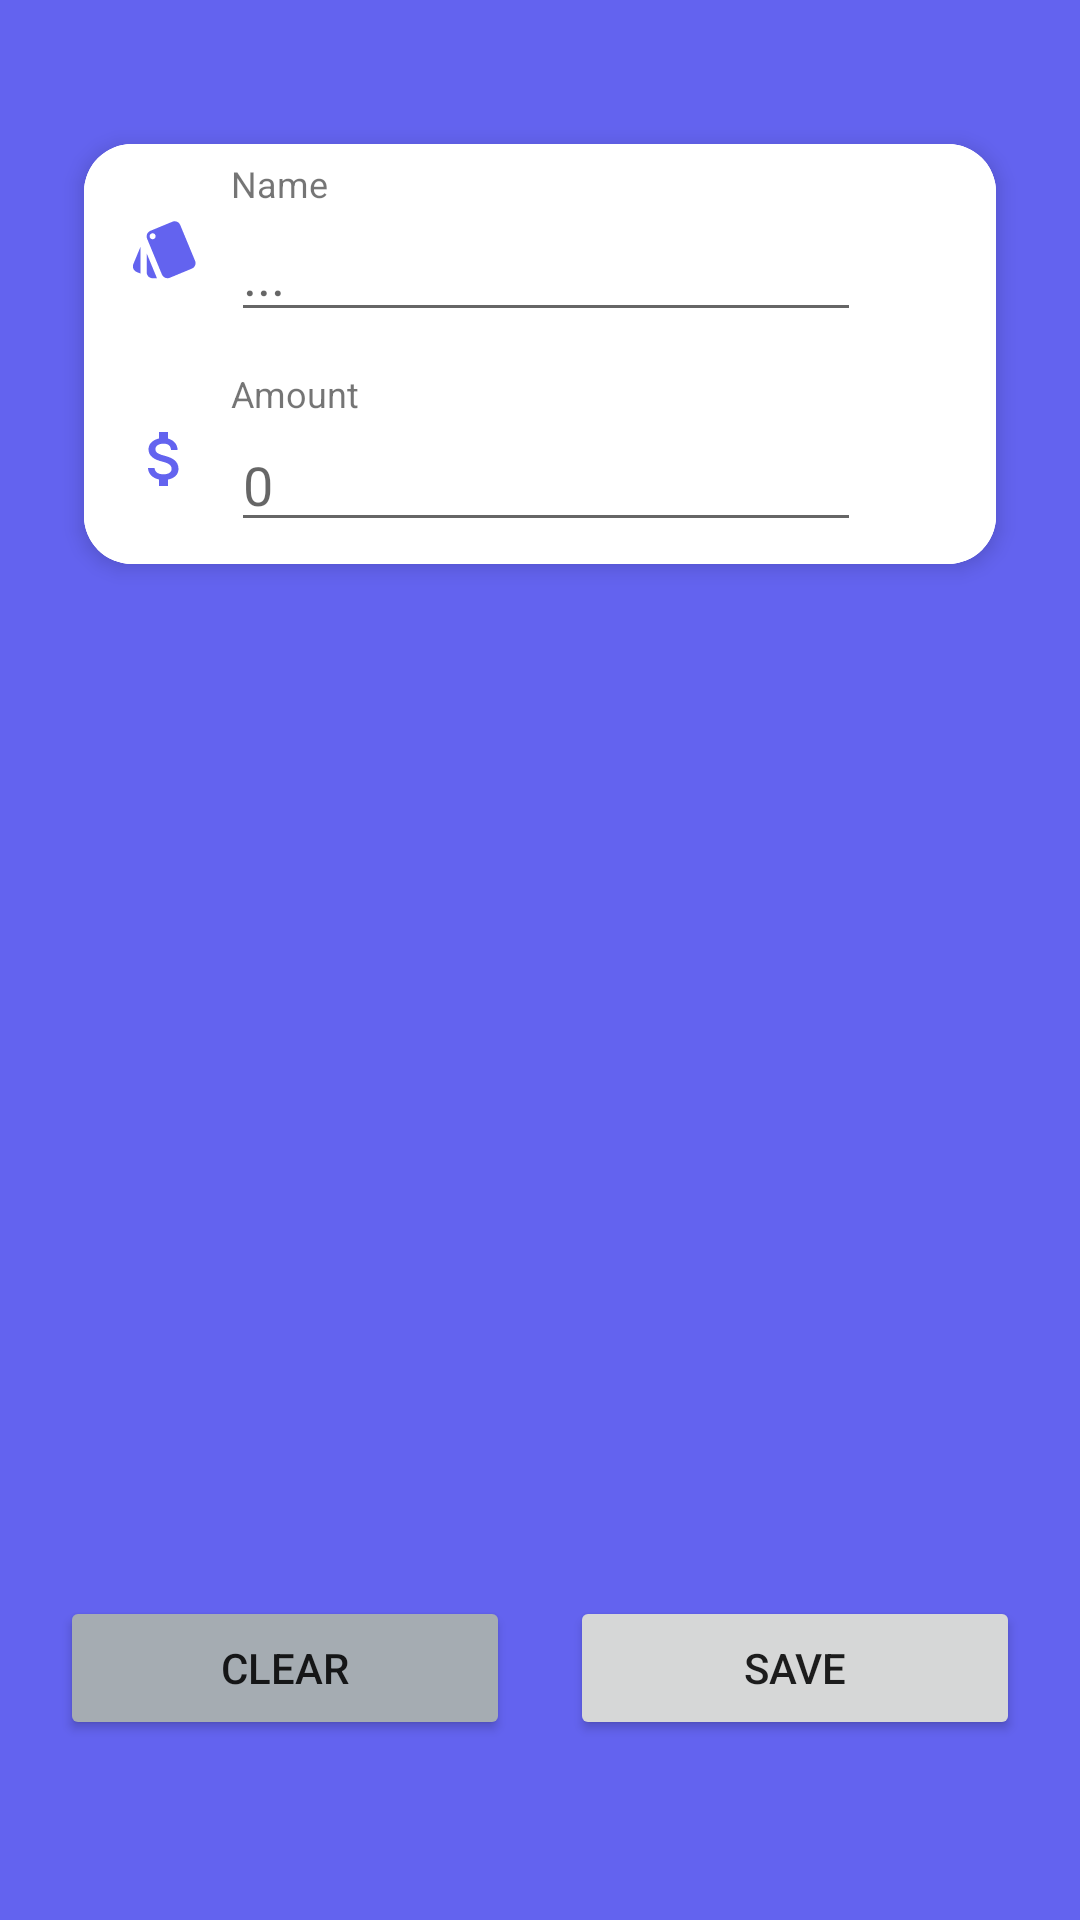

Locate icon controls on the screen. Image size 1080px×1920px, boxes as [left=x1, top=y1, right=x2, bottom=y2].
attach money: [left=148, top=432, right=179, bottom=486]
style: [left=133, top=221, right=196, bottom=279]
